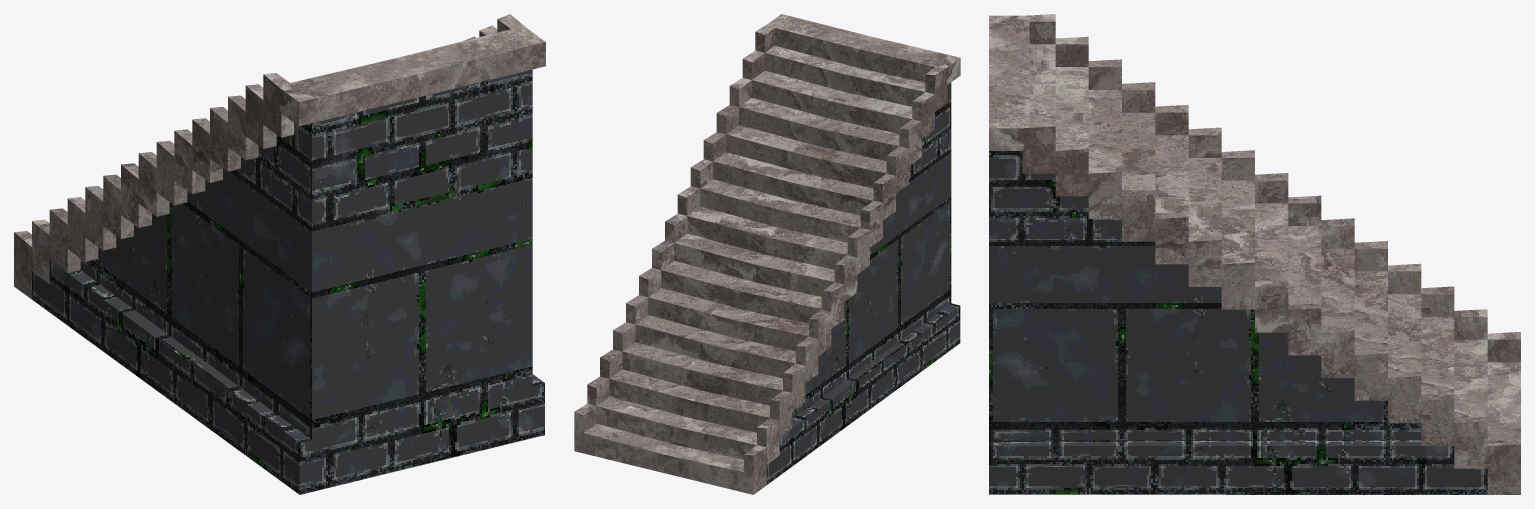
Rendered from stairs_03.gltf.
The picture shows the model from 3 angles, left to right: view 1: azimuth 30°, elevation 25°; view 2: azimuth 150°, elevation 25°; view 3: azimuth 270°, elevation 25°; orthographic projection. The views are drawn at different scales.
Parts seen in each view (by area): view 1: stairs_03; view 2: stairs_03; view 3: stairs_03.
Part boxes in pixels (x1,y1,x2,y2): stairs_03: (14, 14, 545, 494); stairs_03: (574, 14, 960, 494); stairs_03: (989, 14, 1520, 494).
Size of what is drawn, in the model's own units: 2 by 3.06 by 4.
1 material, 1 textured.
